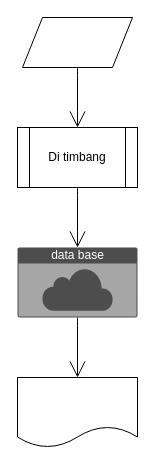
Image size: 155x465. Some labels were removed from this diagram. The centre of each missing label's shape, as x and y in pixels:
sampah hasil cacah: pixel 77 42
tampilkan di aplikasi atau website: pixel 77 412
